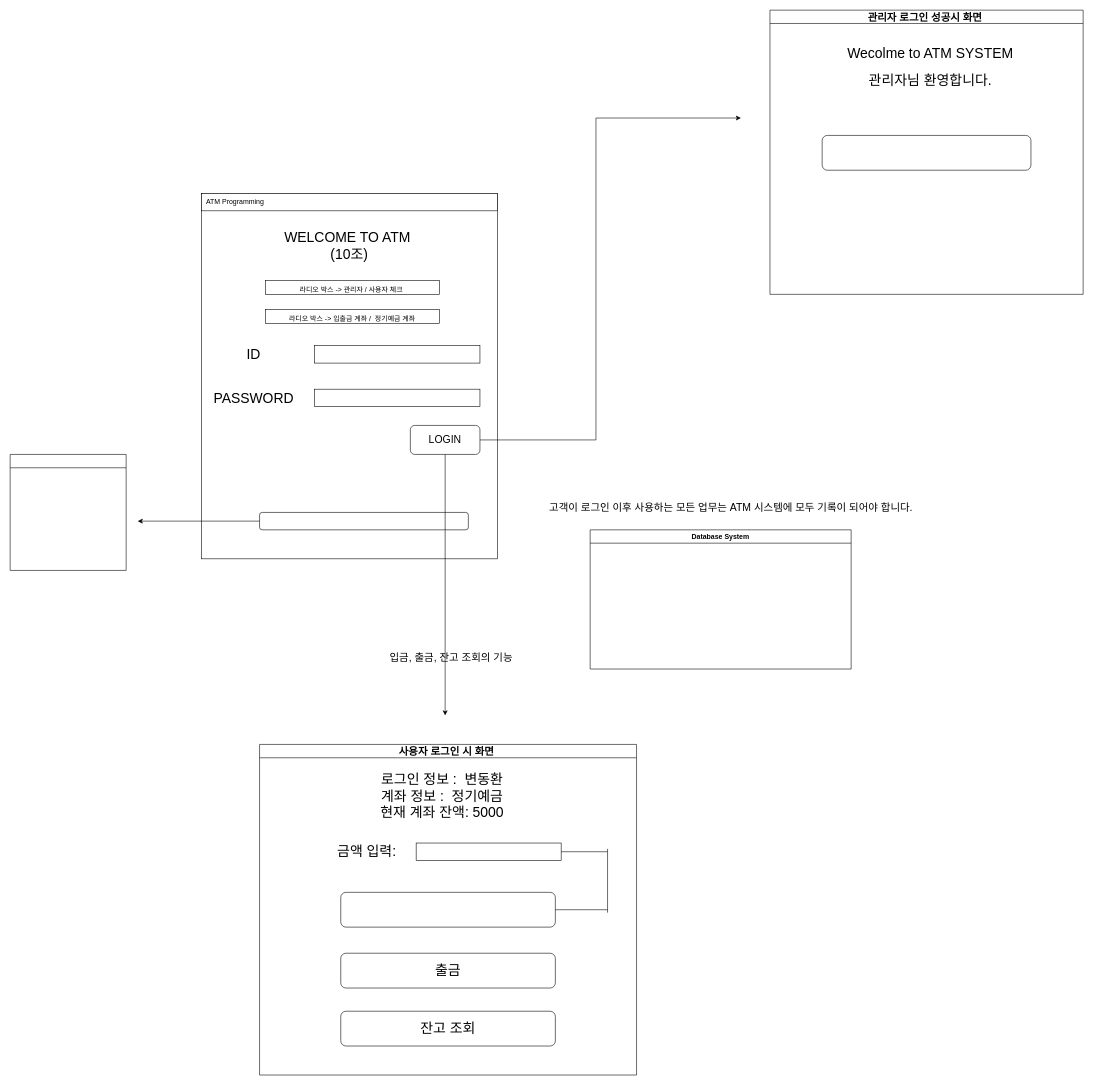
This 1093x1085 diagram has some shape labels left out. The centre of each missing label's shape, as x and y in pixels:
"SIGN UP" goes at point (363, 521).
"입금" goes at point (447, 909).
"지폐 충전" goes at point (926, 152).
"회원가입" goes at point (68, 512).
